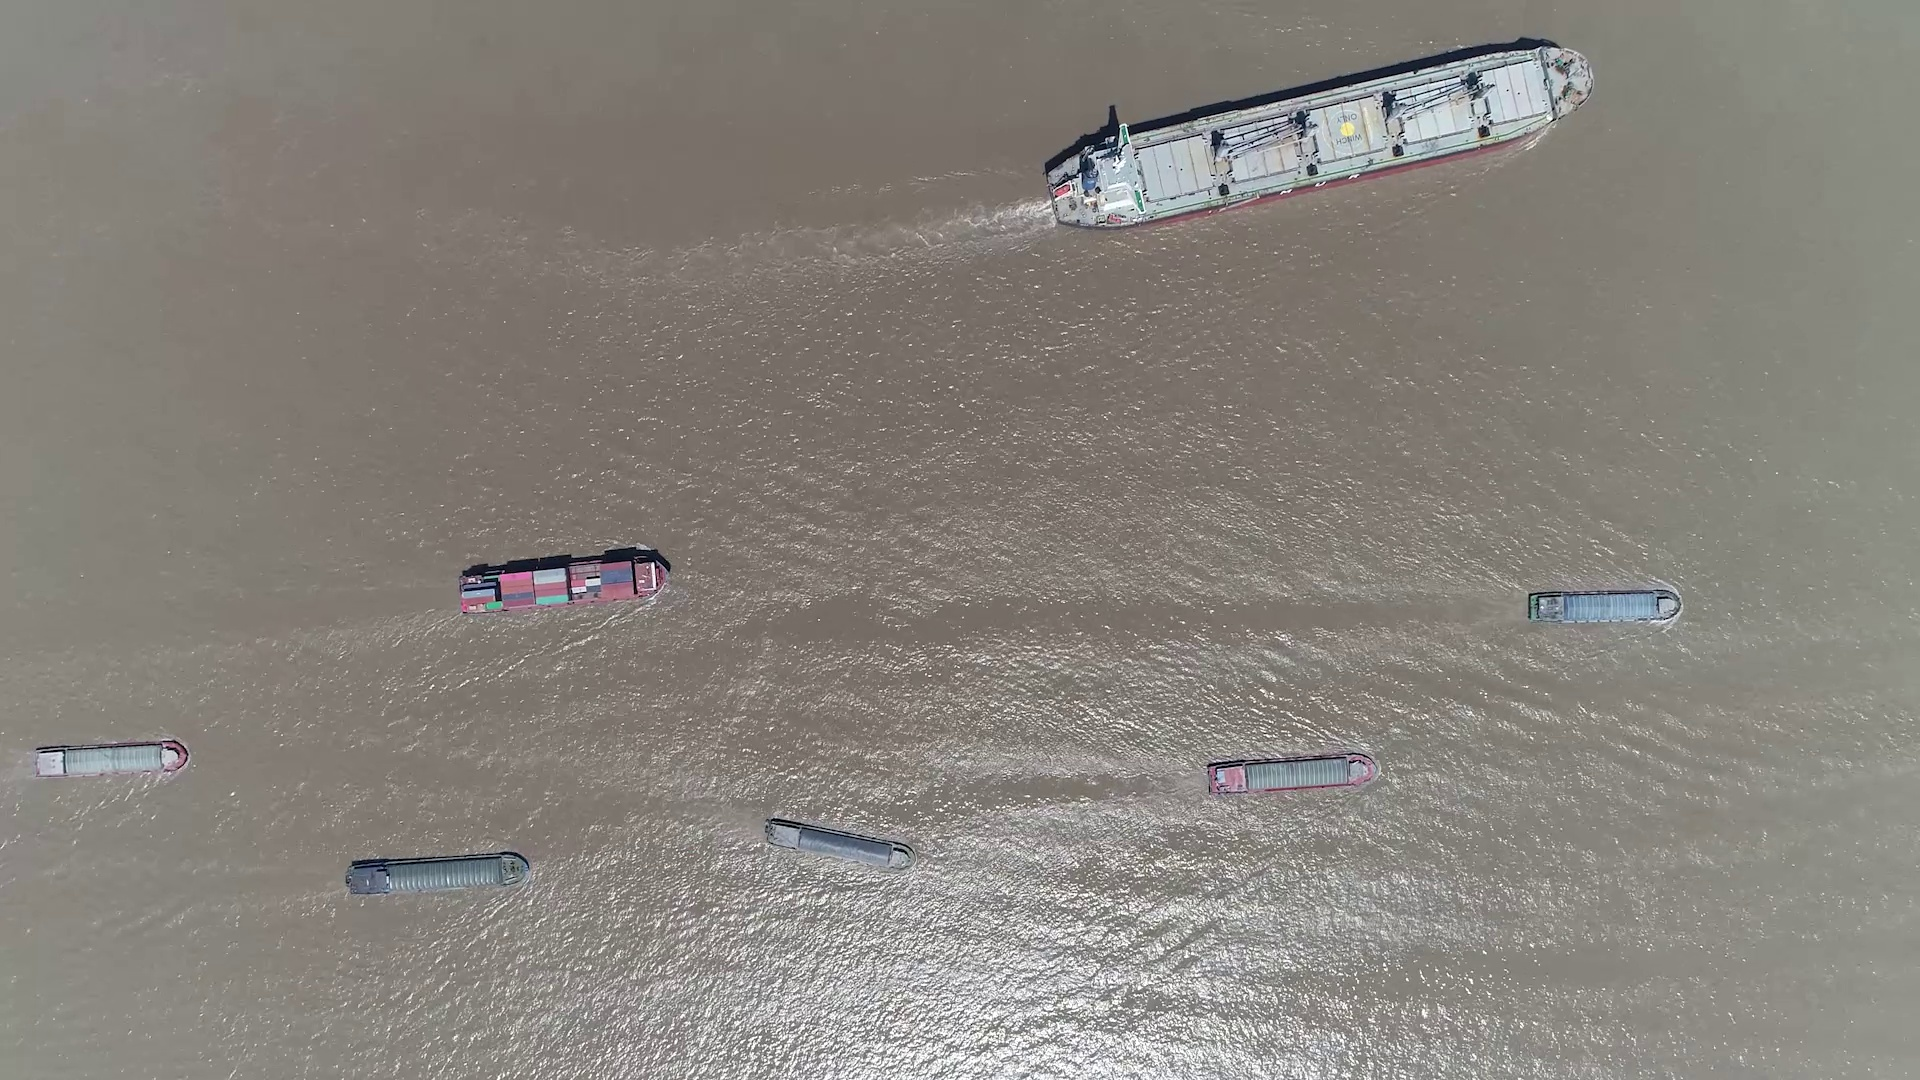ship: (1044, 51, 1589, 228), (459, 553, 671, 615), (347, 851, 531, 894), (764, 818, 915, 868), (1209, 754, 1375, 795), (32, 742, 189, 778), (1528, 588, 1681, 622)
